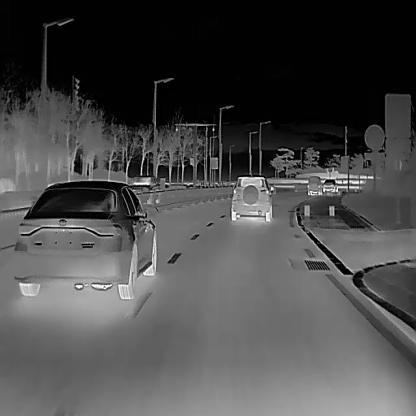car: (12, 178, 157, 299), (230, 174, 275, 221), (127, 173, 159, 193), (306, 174, 322, 193), (322, 179, 338, 189)
